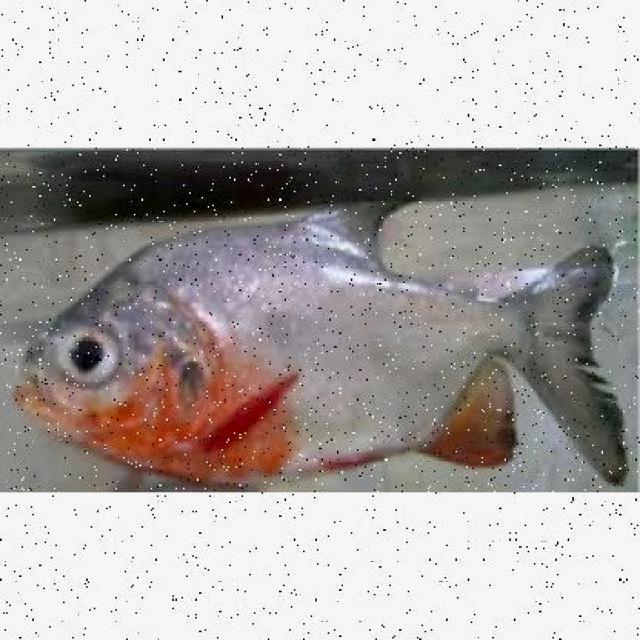ikan-pacu: (19, 212, 606, 480)
